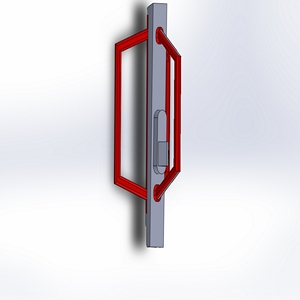submarine: (101, 1, 196, 261)
